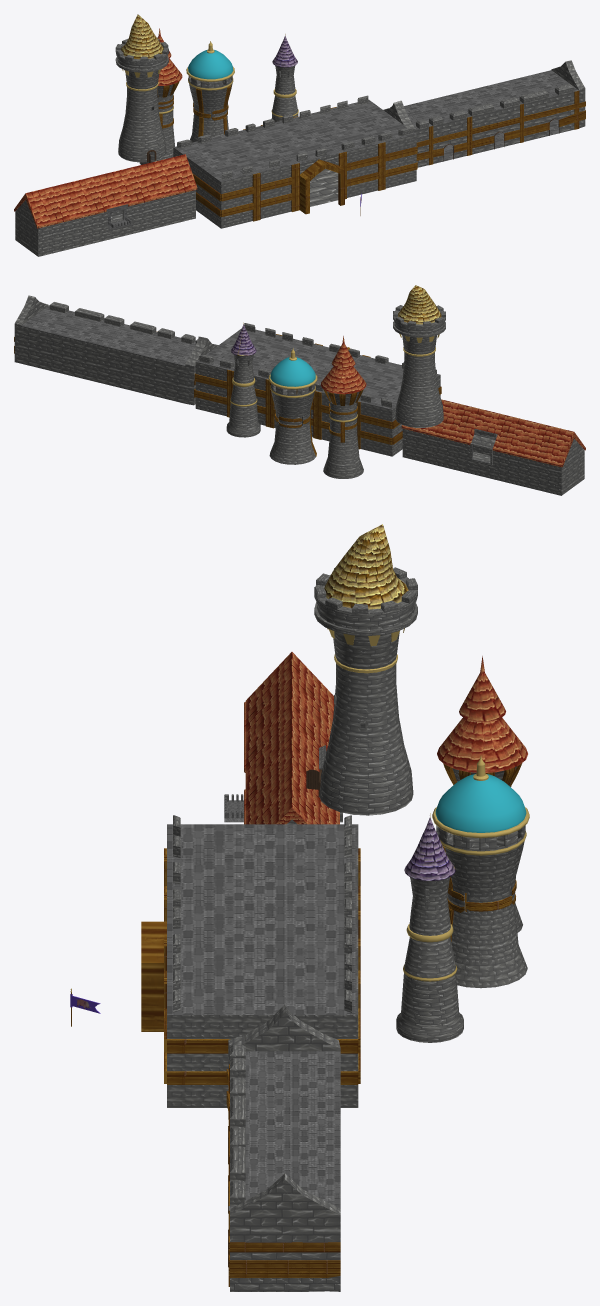
The model's file is SM_Towers_And_Castle.fbx.
3 renders of one model, top to bottom at view 1: azimuth 30°, elevation 25°; view 2: azimuth 150°, elevation 25°; view 3: azimuth 270°, elevation 25°, orthographic. The views are drawn at different scales.
Visible parts, largest first — view 1: SM_castle_Level_1_01, SM_Castle_level_03_01, SM_castle_level_2_01, SM_Herberts_tower_01, SM_Tower_Round_roof, SM_Tower_Simple_01, SM_Tower_Double_roof_01; view 2: SM_castle_level_2_01, SM_castle_Level_1_01, SM_Castle_level_03_01, SM_Herberts_tower_01, SM_Tower_Round_roof, SM_Tower_Double_roof_01, SM_Tower_Simple_01; view 3: SM_castle_Level_1_01, SM_castle_level_2_01, SM_Herberts_tower_01, SM_Tower_Round_roof, SM_Castle_level_03_01, SM_Tower_Simple_01, SM_Tower_Double_roof_01.
Part boxes in pixels (box(x1,y1,x2,y2)): SM_castle_Level_1_01: box(173, 95, 417, 228); SM_Castle_level_03_01: box(14, 154, 197, 256); SM_castle_level_2_01: box(383, 60, 585, 167); SM_Herberts_tower_01: box(115, 14, 168, 162); SM_Tower_Round_roof: box(186, 41, 234, 142); SM_Tower_Simple_01: box(271, 34, 298, 122); SM_Tower_Double_roof_01: box(139, 28, 182, 164); SM_castle_level_2_01: box(14, 295, 218, 405); SM_castle_Level_1_01: box(194, 323, 441, 456); SM_Castle_level_03_01: box(401, 399, 585, 495); SM_Herberts_tower_01: box(393, 285, 445, 427); SM_Tower_Round_roof: box(268, 348, 317, 464); SM_Tower_Double_roof_01: box(320, 336, 366, 478); SM_Tower_Simple_01: box(226, 322, 260, 437); SM_castle_Level_1_01: box(141, 815, 360, 1107); SM_castle_level_2_01: box(226, 1004, 340, 1291); SM_Herberts_tower_01: box(306, 524, 417, 815); SM_Tower_Round_roof: box(432, 756, 529, 988); SM_Castle_level_03_01: box(224, 652, 342, 824); SM_Tower_Simple_01: box(396, 813, 463, 1042); SM_Tower_Double_roof_01: box(437, 656, 527, 932).
Bounding box in the file's own units: 31857 × 10363 × 11634.
